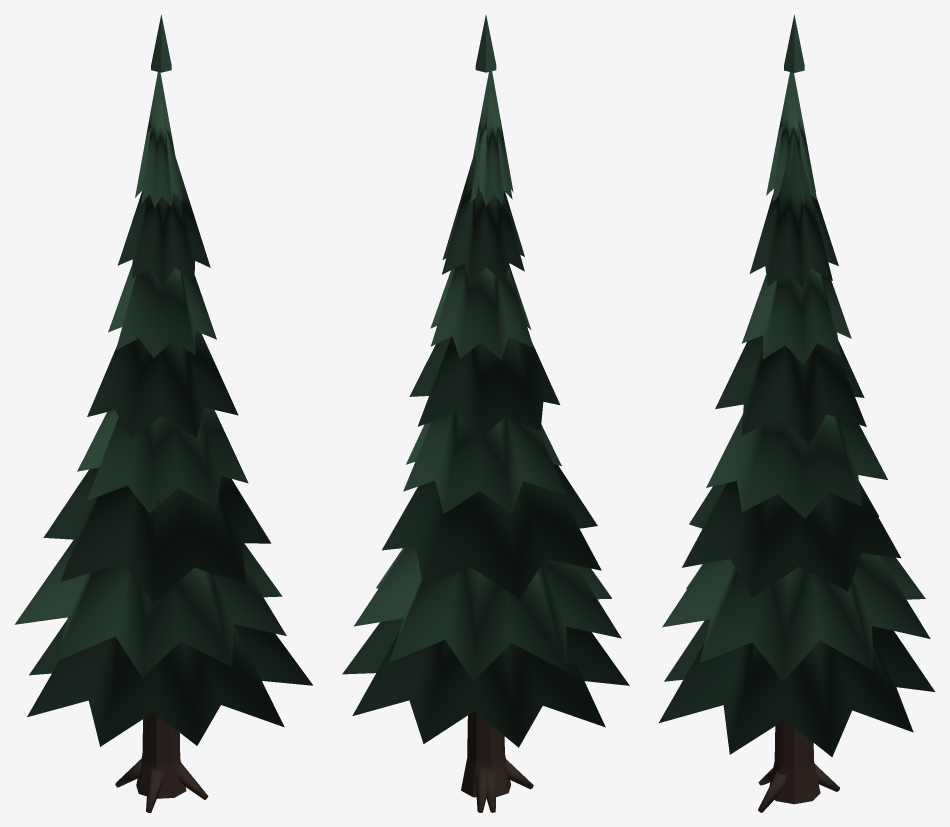
The model's file is pine_b.glb.
3 renders of one model, left to right at view 1: azimuth 30°, elevation 25°; view 2: azimuth 150°, elevation 25°; view 3: azimuth 270°, elevation 25°, orthographic.
Visible parts, largest first — view 1: pine_b; view 2: pine_b; view 3: pine_b.
Part boxes in pixels (bbox=[...]): pine_b: bbox=[14, 15, 312, 812]; pine_b: bbox=[342, 14, 629, 812]; pine_b: bbox=[659, 15, 934, 812].
Size of the model in its own units: 1.23 by 3.63 by 1.16.
